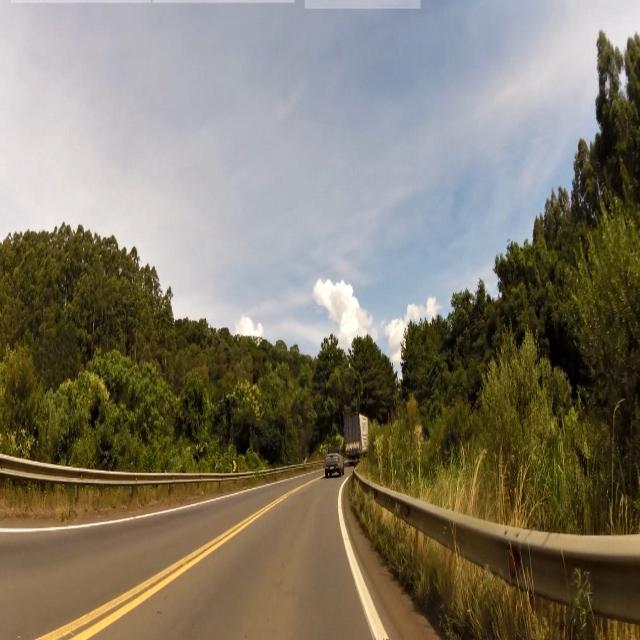Del: (231, 458, 239, 474)
